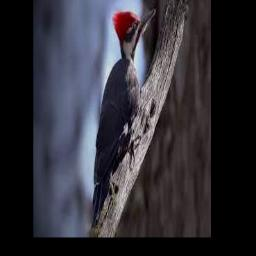Woodpecker: (92, 8, 155, 225)
